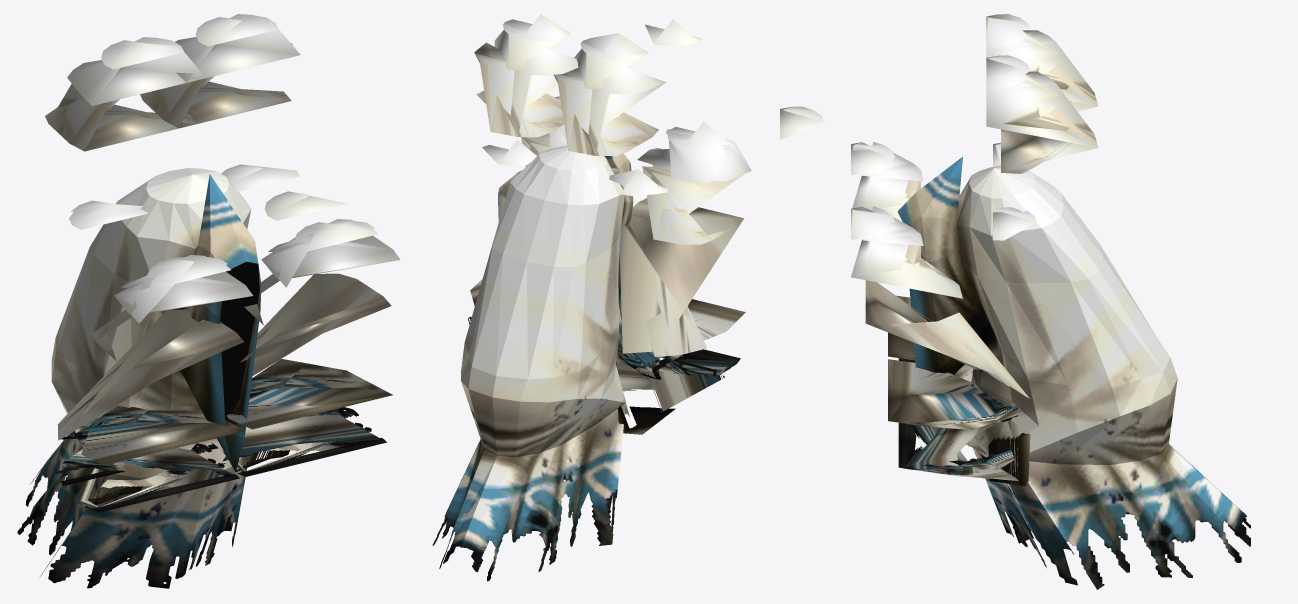
Rendered from unmoba1.dae.
3 renders of one model, left to right at view 1: azimuth 30°, elevation 25°; view 2: azimuth 150°, elevation 25°; view 3: azimuth 270°, elevation 25°, orthographic. The views are drawn at different scales.
Parts seen in each view (by area): view 1: bd, rh3, lh3, rh1, lh1, rh2, baserh3, lh2; view 2: bd, rh3, rh1, lh1, lh3, rh2, lh2, baserh3; view 3: bd, lh3, lh1, rh3, rh1, lh2, baserh3.
Part boxes in pixels (bbox=[...]): bd: bbox=[17, 168, 261, 588]; rh3: bbox=[55, 255, 253, 512]; lh3: bbox=[208, 219, 400, 476]; rh1: bbox=[45, 37, 205, 151]; lh1: bbox=[140, 14, 300, 128]; rh2: bbox=[69, 200, 148, 229]; baserh3: bbox=[264, 191, 347, 220]; lh2: bbox=[221, 164, 299, 191]; bd: bbox=[432, 146, 633, 581]; rh3: bbox=[616, 121, 751, 434]; rh1: bbox=[554, 33, 666, 156]; lh1: bbox=[474, 14, 578, 137]; lh3: bbox=[468, 96, 567, 324]; rh2: bbox=[609, 169, 668, 196]; lh2: bbox=[482, 139, 536, 166]; baserh3: bbox=[645, 19, 702, 46]; bd: bbox=[897, 156, 1250, 589]; lh3: bbox=[850, 206, 1030, 486]; lh1: bbox=[986, 55, 1098, 173]; rh3: bbox=[850, 141, 973, 381]; rh1: bbox=[986, 14, 1098, 132]; lh2: bbox=[993, 207, 1036, 240]; baserh3: bbox=[780, 106, 823, 139].
Bounding box in the file's own units: 1.1 × 1.77 × 1.98.
Materials: 1 (1 with a texture image).
